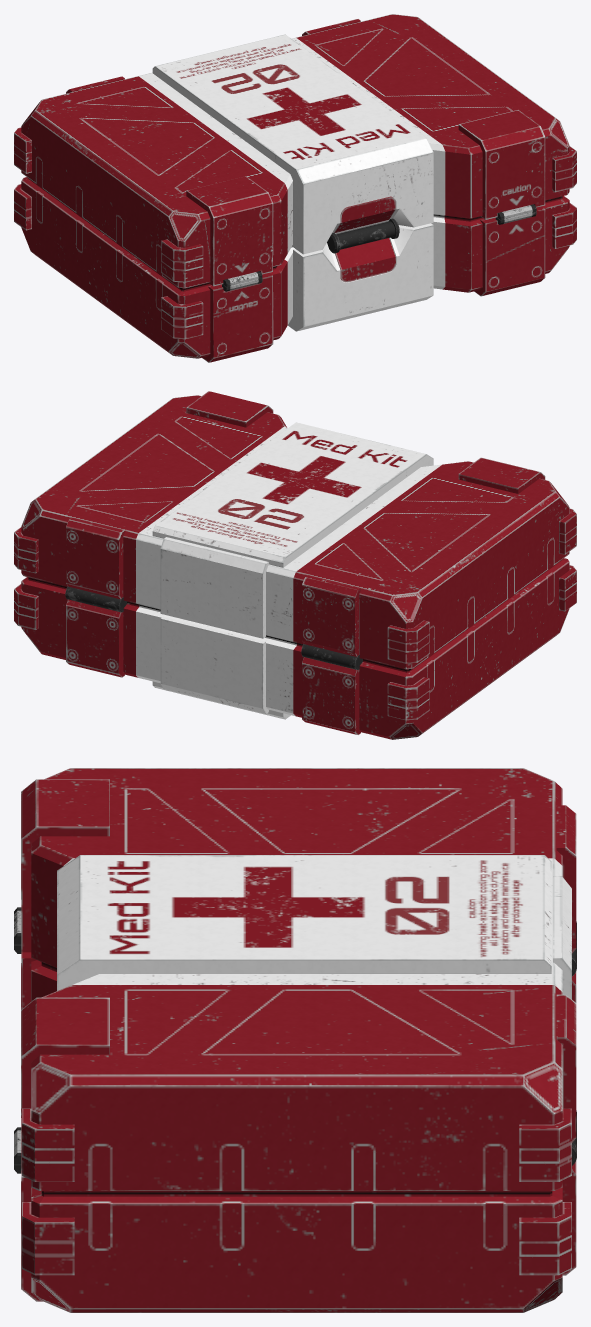
The picture shows the model from 3 angles, top to bottom: view 1: azimuth 30°, elevation 25°; view 2: azimuth 150°, elevation 25°; view 3: azimuth 270°, elevation 25°; orthographic projection. The views are drawn at different scales.
Parts seen in each view (by area): view 1: Cube_low, Cube_Plate_low, Cube_Plate.001_low, Cube_Plate.002_low, Cube_Plate_m1_low, Cylinder.001_low, Cube_Castle_low, Cube_Plate.004_low; view 2: Cube_low, Cube_Plate_low, Cube_Plate.003_low, Cube_Plate.004_low, Cube_Plate.002_low, Cube_Plate.001_low, Cylinder_low; view 3: Cube_low, Cube_Plate_low, Cube_Plate.001_low, Cube_Plate.002_low, Cube_Plate.004_low, Cube_Plate.003_low.
Boxes of the visible parts, x1,y1,x2,y2 form: Cube_low: (21,14,569,358); Cube_Plate_low: (152,34,433,331); Cube_Plate.001_low: (186,110,545,362); Cube_Plate.002_low: (14,127,576,339); Cube_Plate_m1_low: (334,196,395,282); Cylinder.001_low: (327,218,399,253); Cube_Castle_low: (223,204,536,286); Cube_Plate.004_low: (66,19,360,93); Cube_low: (21,395,569,739); Cube_Plate_low: (152,422,433,719); Cube_Plate.003_low: (160,537,268,713); Cube_Plate.004_low: (66,517,360,734); Cube_Plate.002_low: (14,508,576,720); Cube_Plate.001_low: (186,391,545,493); Cylinder_low: (65,586,362,669); Cube_low: (31,768,562,1312); Cube_Plate_low: (57,855,551,990); Cube_Plate.001_low: (21,779,109,1301); Cube_Plate.002_low: (22,1108,571,1275); Cube_Plate.004_low: (556,805,576,1275); Cube_Plate.003_low: (553,876,571,998).
Bounding box in the file's own units: 5.76 × 2.21 × 4.24.
3 materials, 3 textured.
